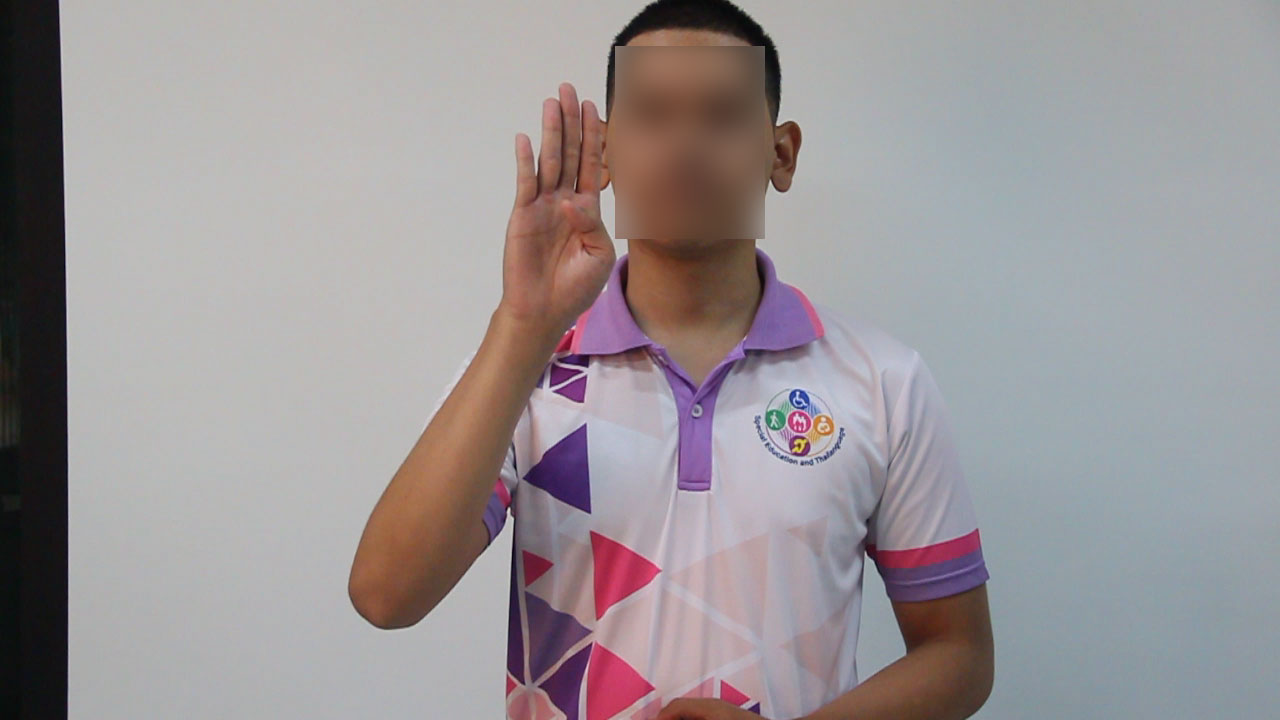bor: (491, 65, 627, 380)
